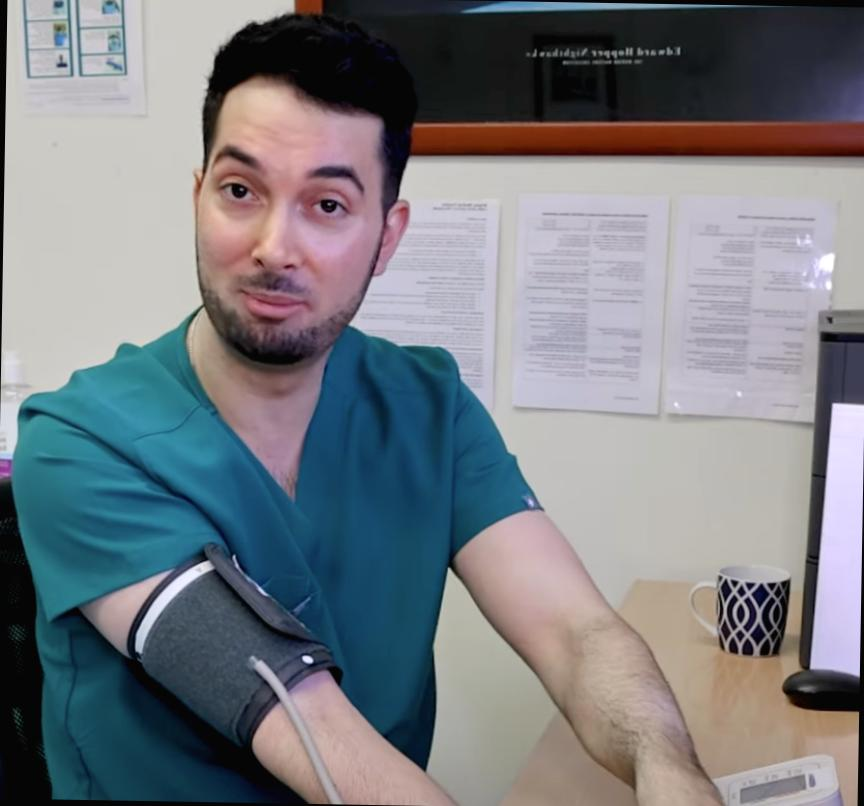cuff: (137, 548, 344, 750)
